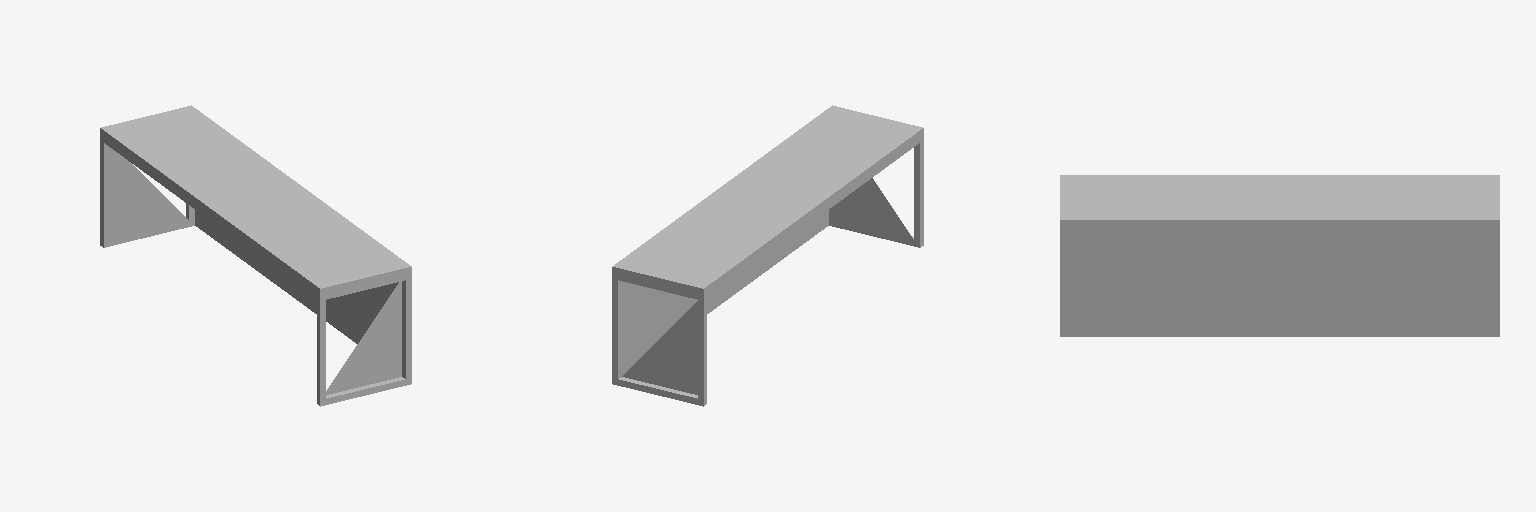
Rendered from table.obj.
The picture shows the model from 3 angles: view 1: azimuth 30°, elevation 25°; view 2: azimuth 150°, elevation 25°; view 3: azimuth 270°, elevation 25°; orthographic projection.
Parts seen in each view (by area): view 1: Mesh2 Group2 table1 Model, Mesh1 Group1 table1 Model; view 2: Mesh2 Group2 table1 Model, Mesh1 Group1 table1 Model; view 3: Mesh1 Group1 table1 Model, Mesh2 Group2 table1 Model.
Boxes of the visible parts, x1,y1,x2,y2 form: Mesh2 Group2 table1 Model: [100, 105, 411, 294]; Mesh1 Group1 table1 Model: [100, 134, 411, 406]; Mesh2 Group2 table1 Model: [612, 105, 923, 294]; Mesh1 Group1 table1 Model: [612, 134, 923, 406]; Mesh1 Group1 table1 Model: [1060, 225, 1499, 336]; Mesh2 Group2 table1 Model: [1060, 175, 1499, 224].
Bounding box in the file's own units: 0.6 × 0.737 × 2.5.